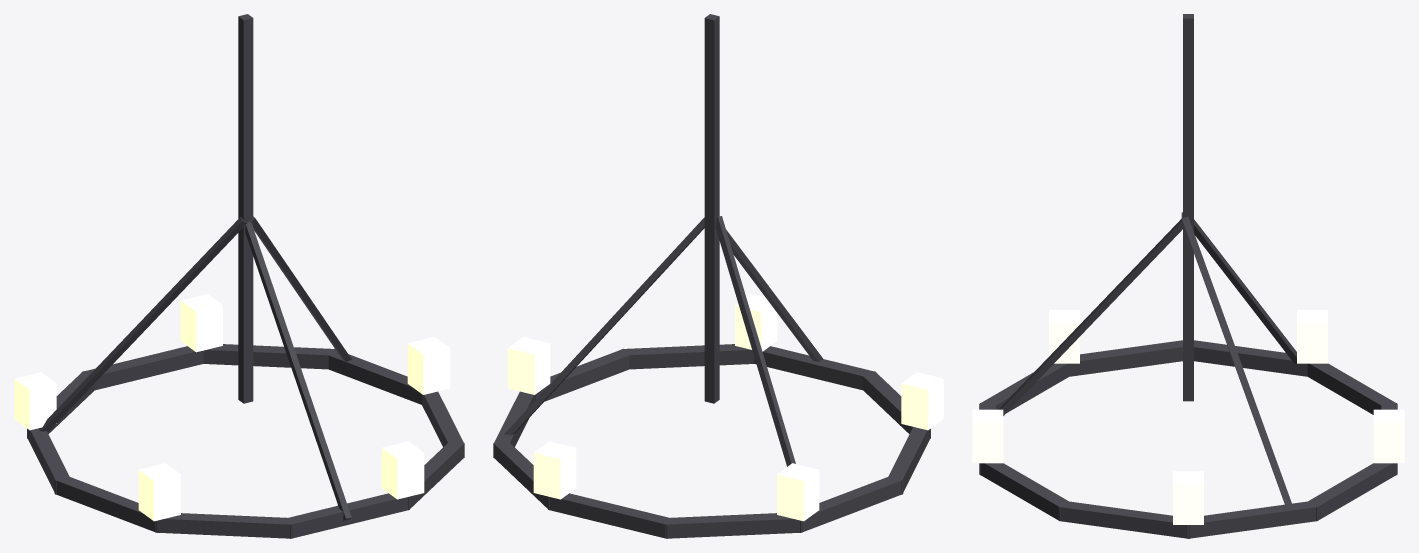
Rendered from chandelier.glb.
3 views of the same model, side by side, from view 1: azimuth 30°, elevation 25°; view 2: azimuth 150°, elevation 25°; view 3: azimuth 270°, elevation 25° (orthographic).
Parts seen in each view (by area): view 1: chandelier; view 2: chandelier; view 3: chandelier.
Boxes of the visible parts, x1,y1,x2,y2 form: chandelier: (14,14,464,538); chandelier: (493,14,943,538); chandelier: (972,14,1404,538).
Bounding box in the file's own units: 2.01 × 2.13 × 1.95.
